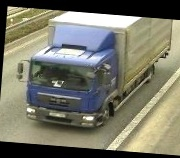truck: (13, 7, 174, 135)
